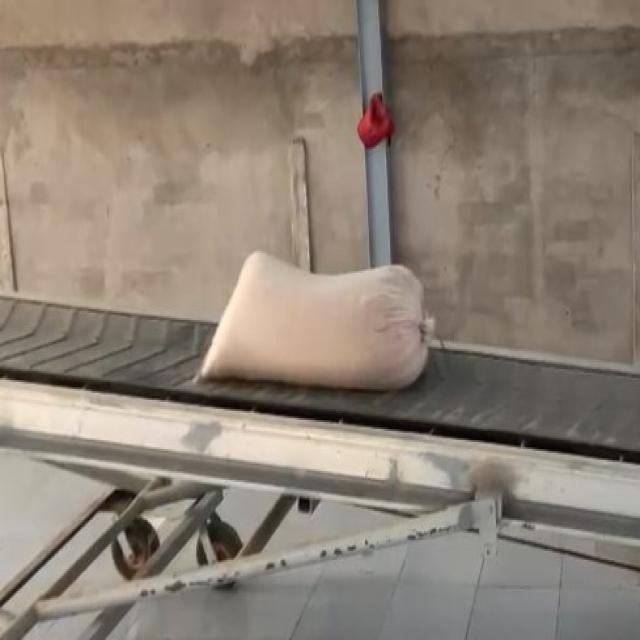gunny_bag: (200, 251, 429, 390)
